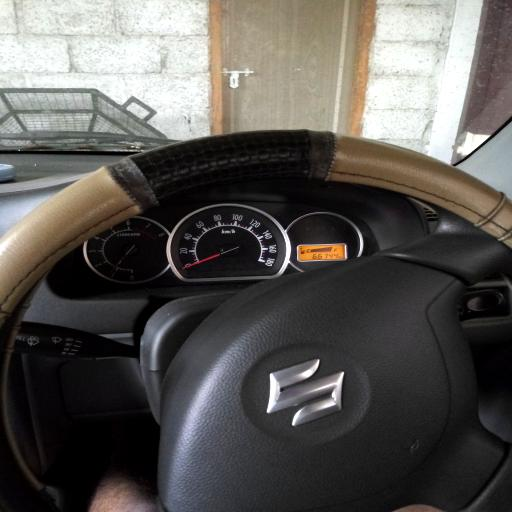tachometer: (83, 216, 168, 284)
